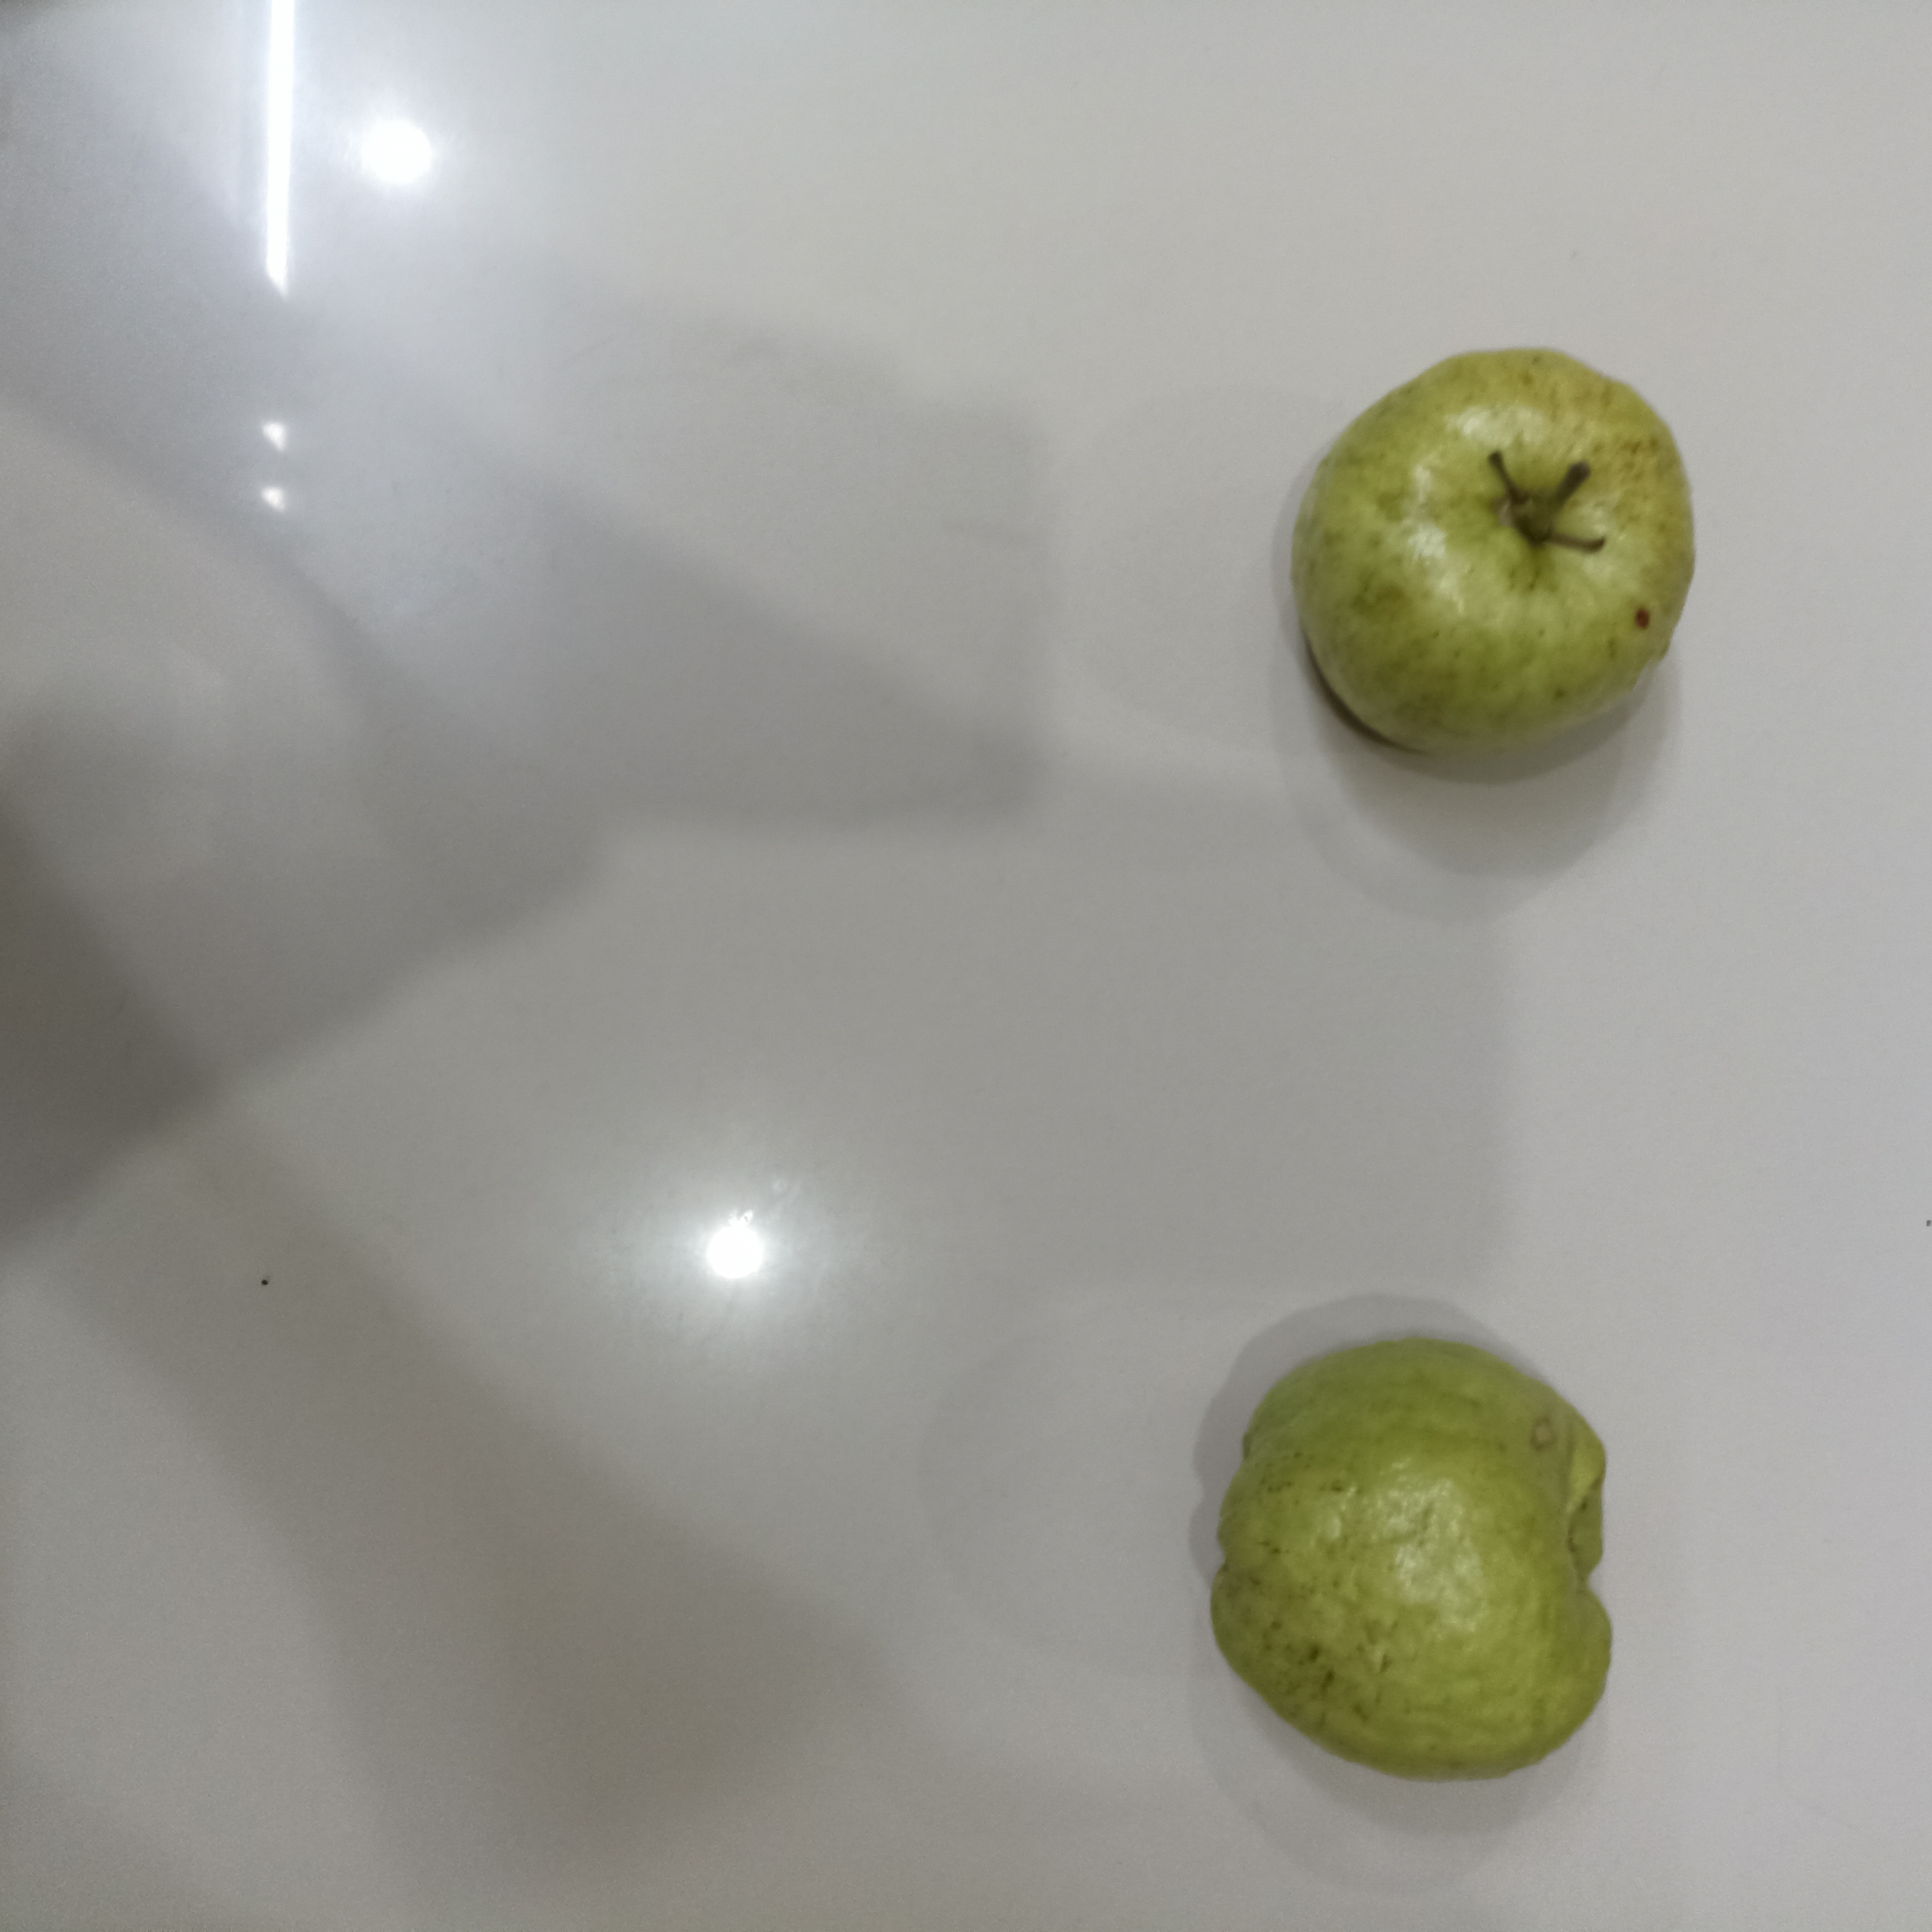Oi: (1205, 1330, 1615, 1787), (1286, 345, 1698, 759)
